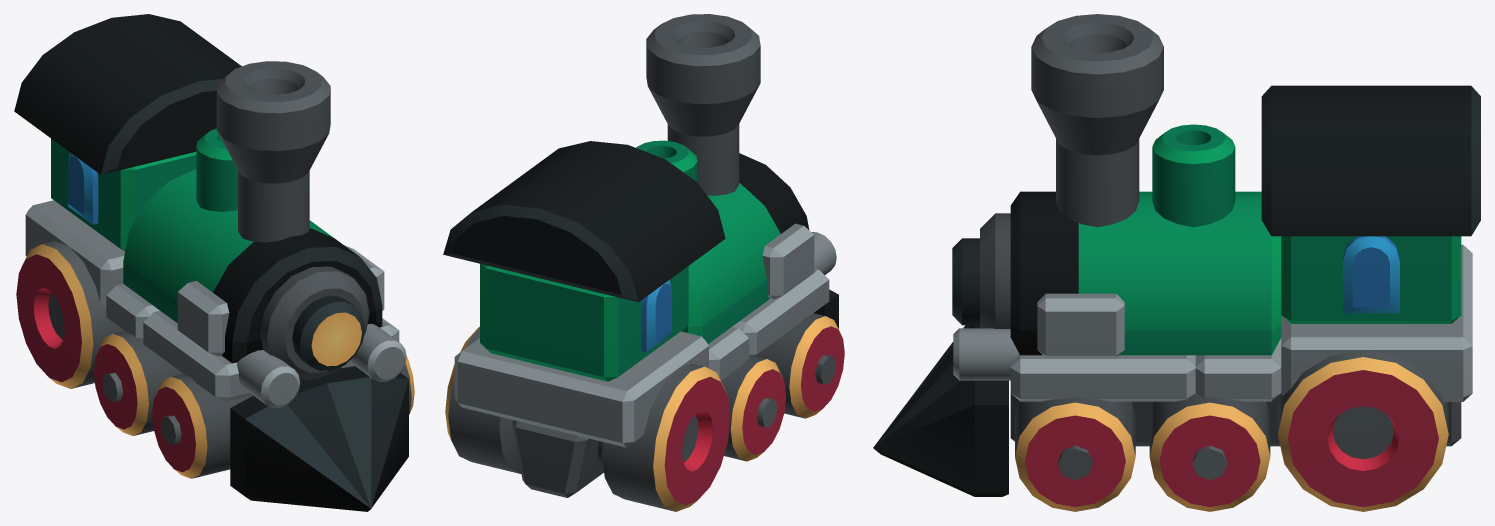
Rendered from Toy_Train_Paint.obj.
3 views of the same model, side by side, from view 1: azimuth 30°, elevation 25°; view 2: azimuth 150°, elevation 25°; view 3: azimuth 270°, elevation 25° (orthographic). The views are drawn at different scales.
Visible parts, largest first — view 1: Toy_Train_Paint; view 2: Toy_Train_Paint; view 3: Toy_Train_Paint.
Boxes of the visible parts, left/top/right/bottom form: Toy_Train_Paint: left=14, top=14, right=414, bottom=511; Toy_Train_Paint: left=443, top=14, right=844, bottom=511; Toy_Train_Paint: left=873, top=14, right=1480, bottom=511.
Size of the model in its own units: 0.4324 by 0.6487 by 0.8578.
Materials: 1 (1 with a texture image).
